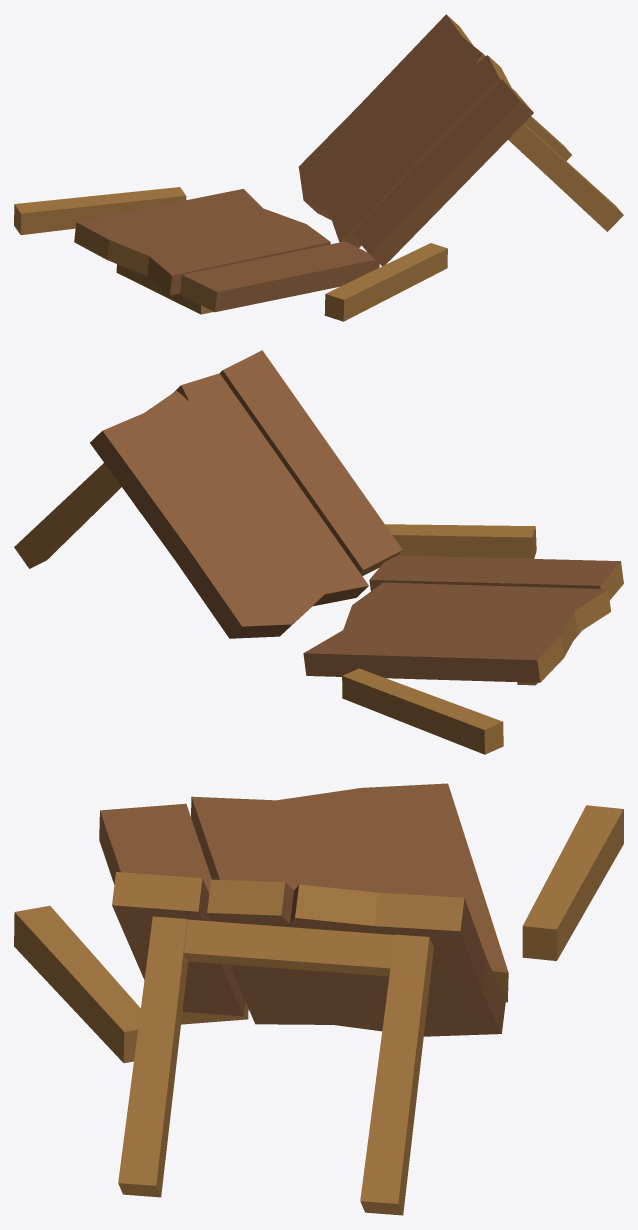
File: table-broken-wood.glb
3 renders of one model, top to bottom at view 1: azimuth 30°, elevation 25°; view 2: azimuth 150°, elevation 25°; view 3: azimuth 270°, elevation 25°, orthographic. The views are drawn at different scales.
Parts seen in each view (by area): view 1: table-broken-wood; view 2: table-broken-wood; view 3: table-broken-wood.
Part boxes in pixels (box(x1,y1,x2,y2)): table-broken-wood: box(14, 14, 623, 321); table-broken-wood: box(14, 350, 623, 754); table-broken-wood: box(14, 783, 623, 1215).
Size of the model in its own units: 2.6 by 0.8215 by 1.74.
Materials: 1 (1 with a texture image).
